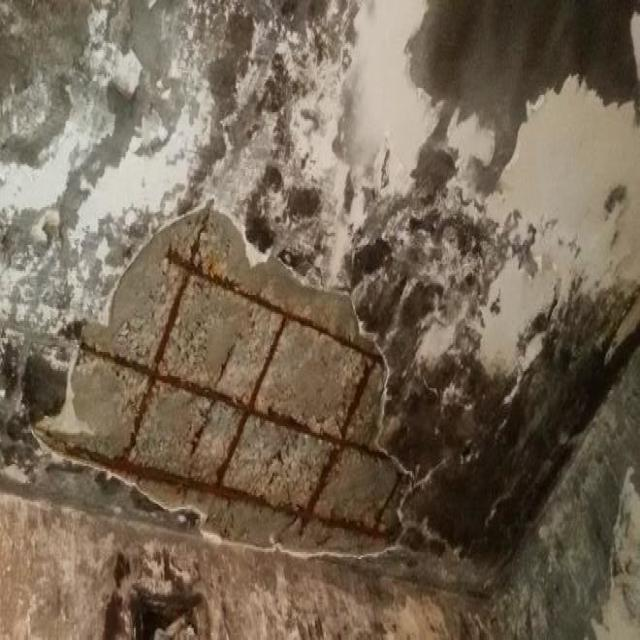Spalling: (23, 206, 478, 584)
corrosion: (83, 341, 389, 460), (78, 444, 383, 534), (169, 251, 381, 362), (122, 213, 206, 455)
